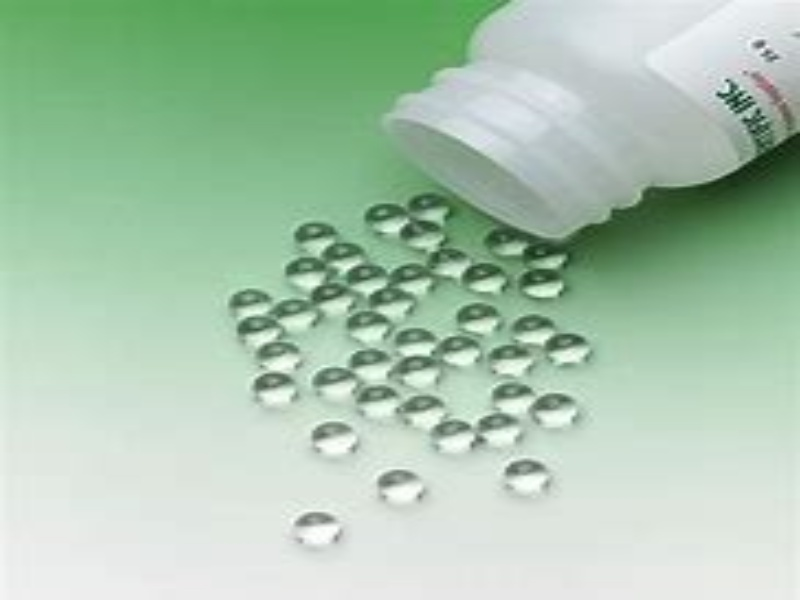bead: (495, 458, 562, 502), (528, 389, 588, 437), (290, 509, 354, 554), (377, 466, 432, 518), (246, 371, 304, 416), (476, 411, 532, 456), (353, 383, 408, 426), (397, 393, 453, 434), (236, 313, 287, 358), (311, 419, 364, 461), (281, 255, 333, 297), (311, 283, 366, 322), (487, 381, 539, 422), (428, 416, 477, 459), (459, 261, 514, 299), (388, 262, 440, 301), (437, 332, 483, 376), (270, 297, 322, 335), (225, 286, 275, 325), (391, 353, 441, 392), (487, 343, 538, 381), (511, 312, 559, 351), (254, 342, 304, 379), (311, 365, 361, 402), (517, 266, 568, 302), (293, 219, 340, 258), (427, 247, 475, 285), (453, 303, 504, 338), (346, 310, 395, 346), (319, 242, 369, 277), (545, 330, 591, 368), (483, 226, 532, 261), (398, 218, 447, 252), (406, 191, 454, 225), (348, 347, 396, 381), (365, 203, 409, 238), (520, 243, 571, 273), (346, 263, 390, 297), (393, 328, 440, 358)
